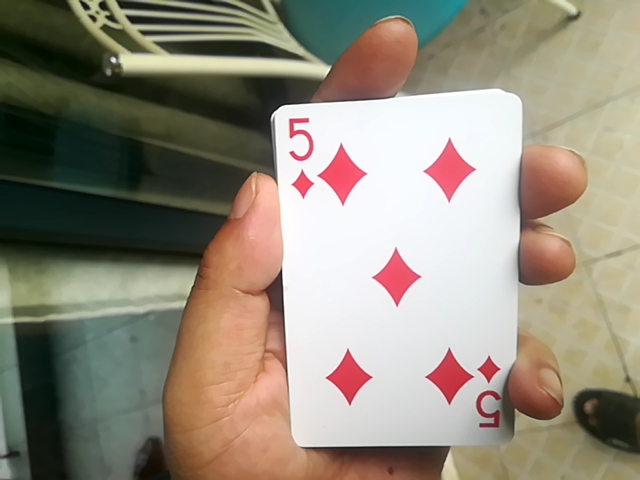fk 5: (275, 87, 538, 456)
